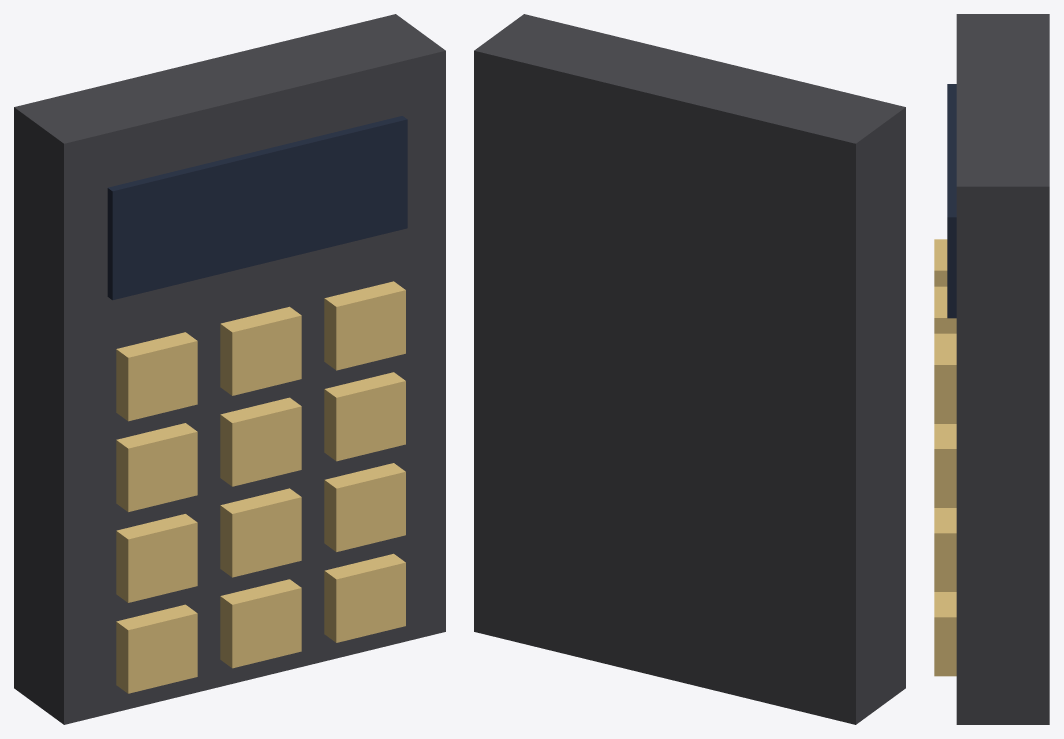
The model's file is INT_Teclado.fbx.
3 views of the same model, side by side, from view 1: azimuth 30°, elevation 25°; view 2: azimuth 150°, elevation 25°; view 3: azimuth 270°, elevation 25° (orthographic). The views are drawn at different scales.
Parts seen in each view (by area): view 1: INT_Teclado; view 2: INT_Teclado; view 3: INT_Teclado.
Boxes of the visible parts, left/top/right/bottom form: INT_Teclado: left=14, top=14, right=445, bottom=724; INT_Teclado: left=474, top=14, right=905, bottom=724; INT_Teclado: left=934, top=14, right=1049, bottom=724.
Bounding box in the file's own units: 0.22 × 0.32 × 0.062.
